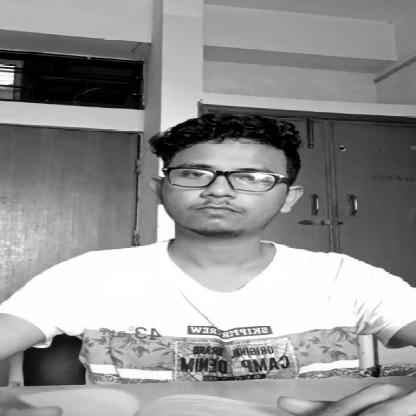Normal: (153, 114, 305, 238)
